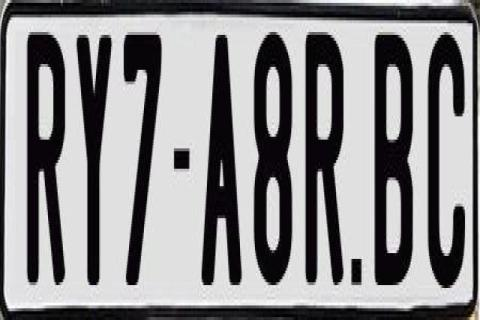0: (255, 23, 298, 291), (120, 32, 160, 296)
A: (199, 32, 239, 300)
B: (373, 32, 411, 288)
C: (428, 23, 462, 297)
R: (302, 26, 346, 294), (26, 32, 66, 302)
Y: (77, 35, 116, 291)
